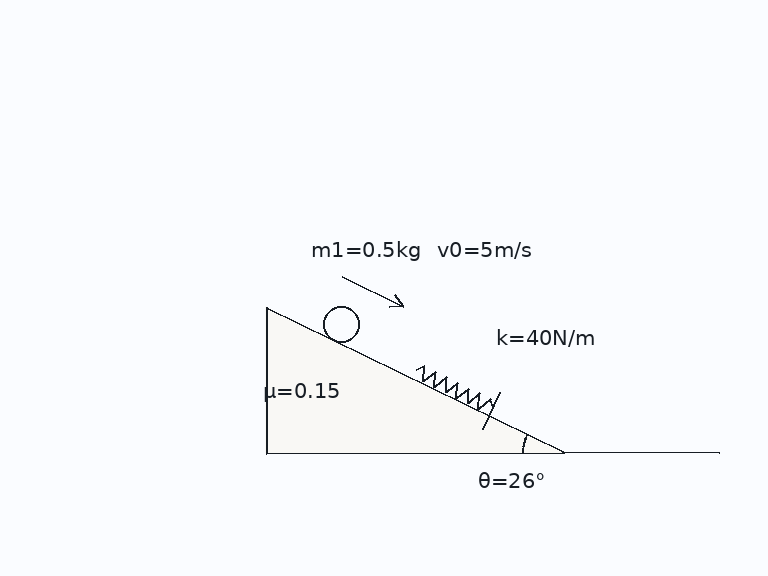ball: (321, 304, 361, 344)
ramp: (264, 305, 565, 454)
spring: (413, 364, 495, 411)
